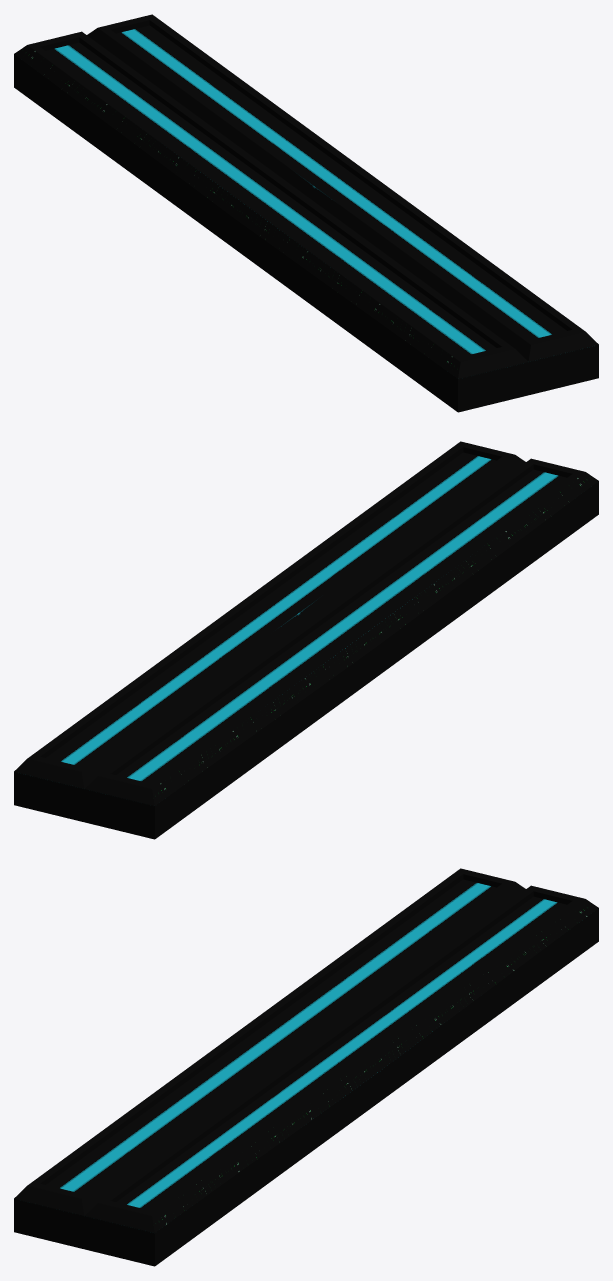
The model's file is Floor_Beam_Art.fbx.
3 renders of one model, top to bottom at view 1: azimuth 30°, elevation 25°; view 2: azimuth 150°, elevation 25°; view 3: azimuth 330°, elevation 25°, orthographic.
Parts seen in each view (by area): view 1: Floor_Beam; view 2: Floor_Beam; view 3: Floor_Beam.
Boxes of the visible parts, x1=… form: Floor_Beam: x1=14, y1=14, x2=598, y2=412; Floor_Beam: x1=14, y1=441, x2=598, y2=839; Floor_Beam: x1=14, y1=868, x2=598, y2=1266.
Size of the model in its own units: 0.7638 by 0.2309 by 4.17.
